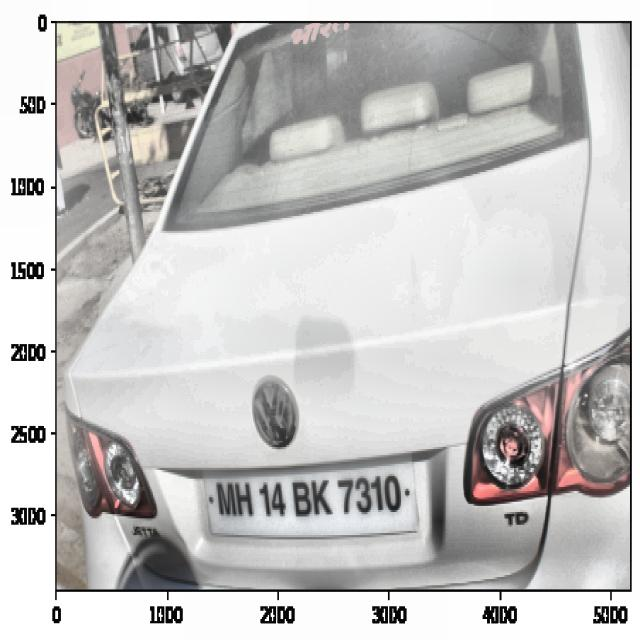license_plate: (210, 464, 406, 526)
